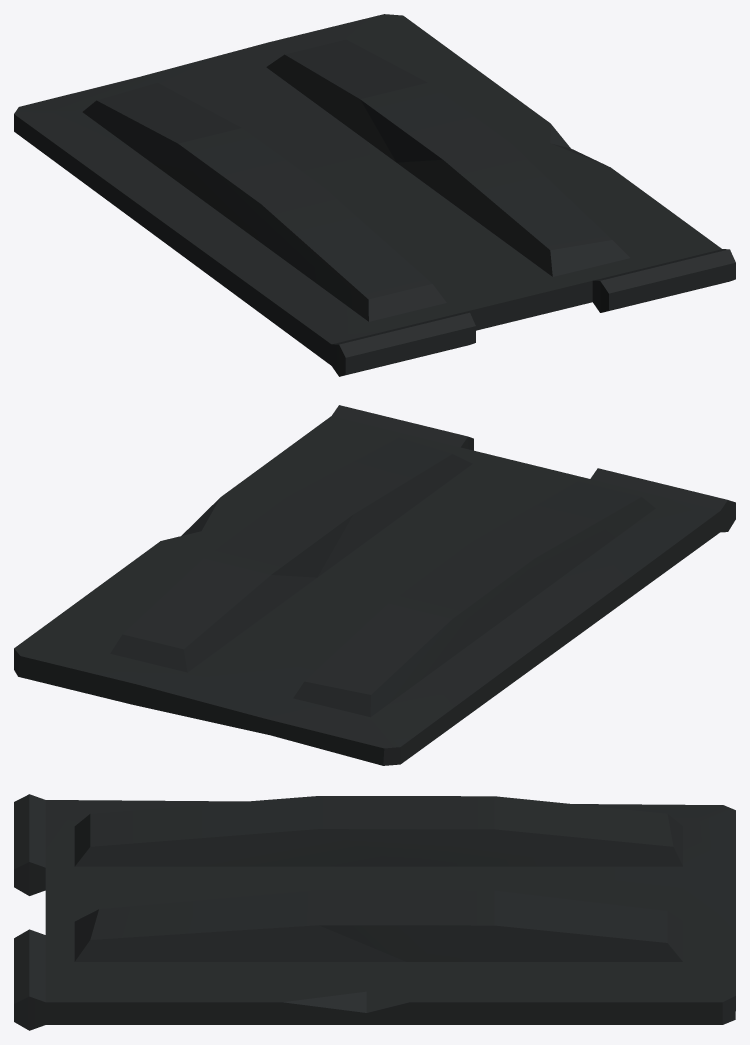
Rendered from SM_Prop_Dumptser_03_Lid_01.obj.
3 views of the same model, one above another, from view 1: azimuth 30°, elevation 25°; view 2: azimuth 150°, elevation 25°; view 3: azimuth 270°, elevation 25° (orthographic). The views are drawn at different scales.
Visible parts, largest first — view 1: SM_Prop_Dumptser_03_Lid_01_0; view 2: SM_Prop_Dumptser_03_Lid_01_0; view 3: SM_Prop_Dumptser_03_Lid_01_0.
Boxes of the visible parts, x1,y1,x2,y2 form: SM_Prop_Dumptser_03_Lid_01_0: (14,14,735,376); SM_Prop_Dumptser_03_Lid_01_0: (14,405,735,765); SM_Prop_Dumptser_03_Lid_01_0: (14,794,735,1030).
Size of the model in its own units: 0.8789 by 0.1265 by 1.32.
1 material, 1 textured.
